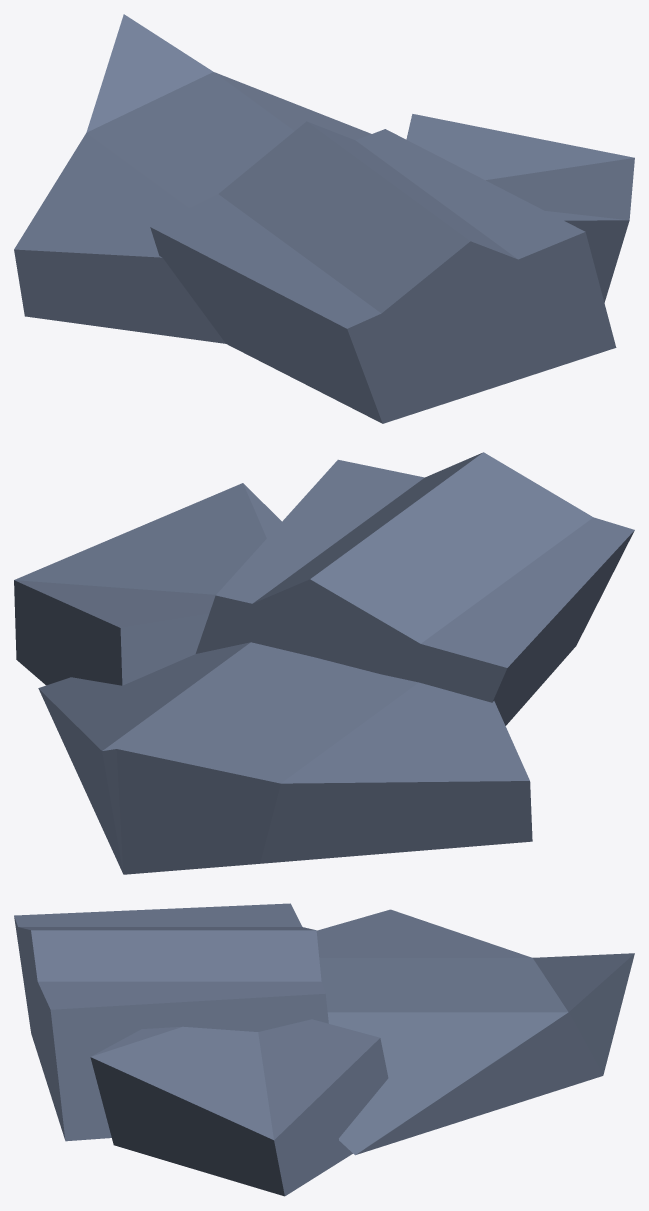
File: resource_stone2_empty.fbx
3 views of the same model, one above another, from view 1: azimuth 30°, elevation 25°; view 2: azimuth 150°, elevation 25°; view 3: azimuth 270°, elevation 25° (orthographic). The views are drawn at different scales.
Visible parts, largest first — view 1: resource_stone2_empty; view 2: resource_stone2_empty; view 3: resource_stone2_empty.
Boxes of the visible parts, x1,y1,x2,y2 form: resource_stone2_empty: (14,14,634,423); resource_stone2_empty: (14,452,634,874); resource_stone2_empty: (14,903,634,1196).
Bounding box in the file's own units: 76.22 × 21.22 × 84.89.
